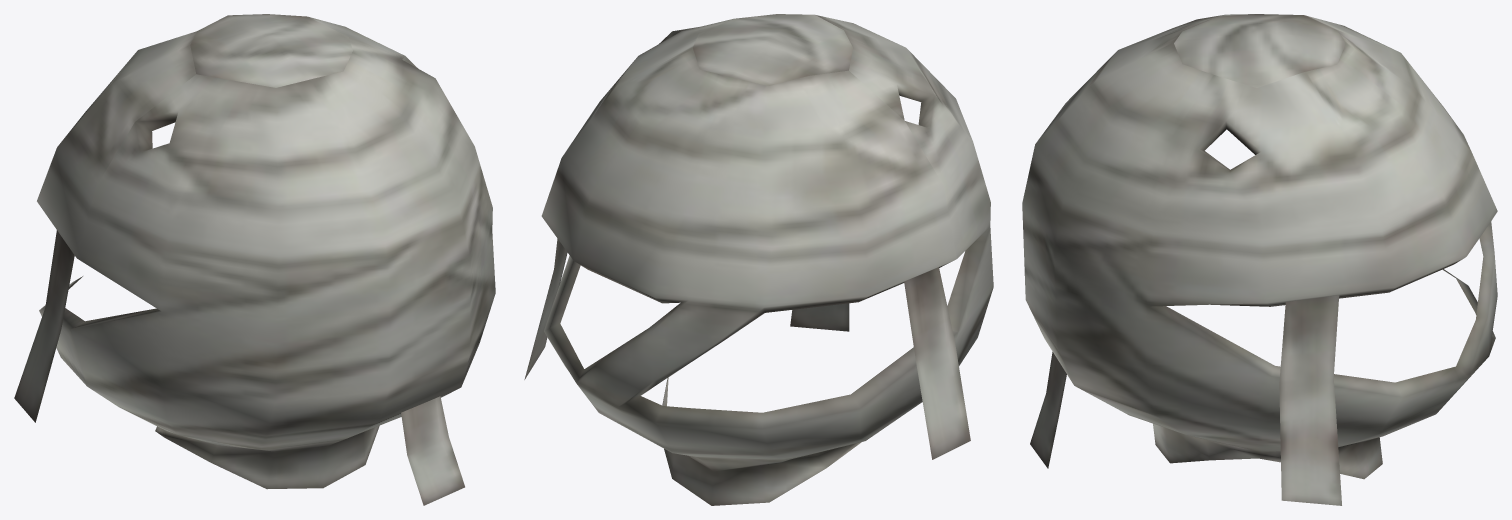
The model's file is mummyHead.glb.
3 views of the same model, side by side, from view 1: azimuth 30°, elevation 25°; view 2: azimuth 150°, elevation 25°; view 3: azimuth 270°, elevation 25° (orthographic).
Visible parts, largest first — view 1: mummyHead; view 2: mummyHead; view 3: mummyHead.
Part boxes in pixels (x1,y1,x2,y2): mummyHead: [14, 14, 495, 505]; mummyHead: [524, 14, 993, 505]; mummyHead: [1022, 14, 1497, 505].
Bounding box in the file's own units: 0.4225 × 0.3983 × 0.3984.
1 material, 1 textured.
